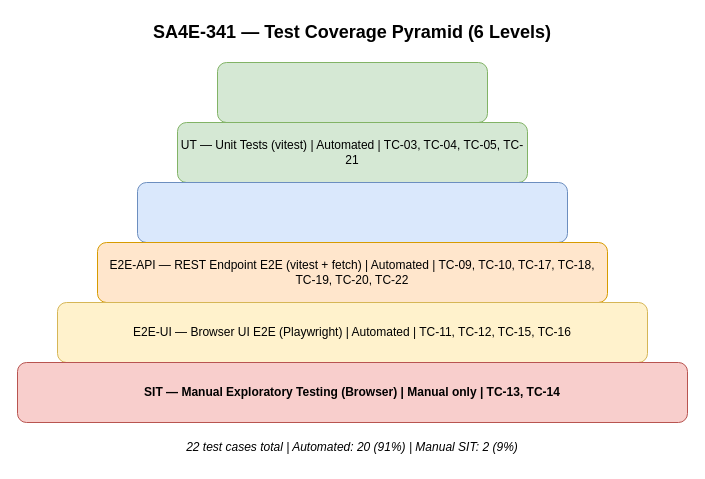
Some shapes in this 705 by 479 pixel diagram are drawn without their labels. The box of each missing label's shape, as (x1, y1, x2, y2) in pixels:
IT — Integration Tests (Hono app in-process) | Automated | TC-06, TC-07, TC-08: (136, 182, 568, 242)
PBT — Property-Based Tests (fast-check) | Automated | TC-01, TC-02: (216, 62, 488, 122)
